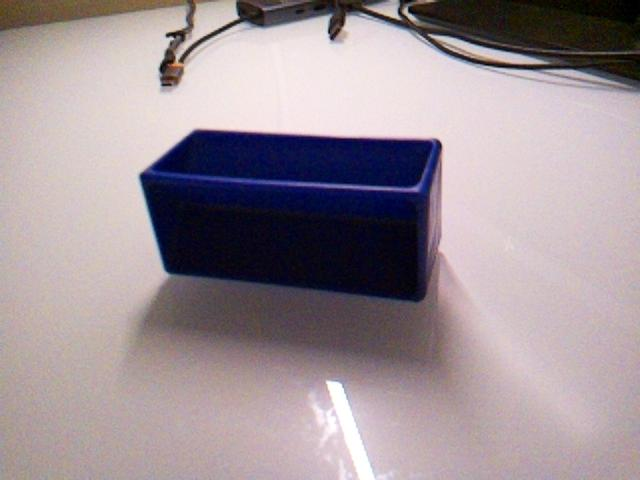blue: (138, 126, 445, 304)
